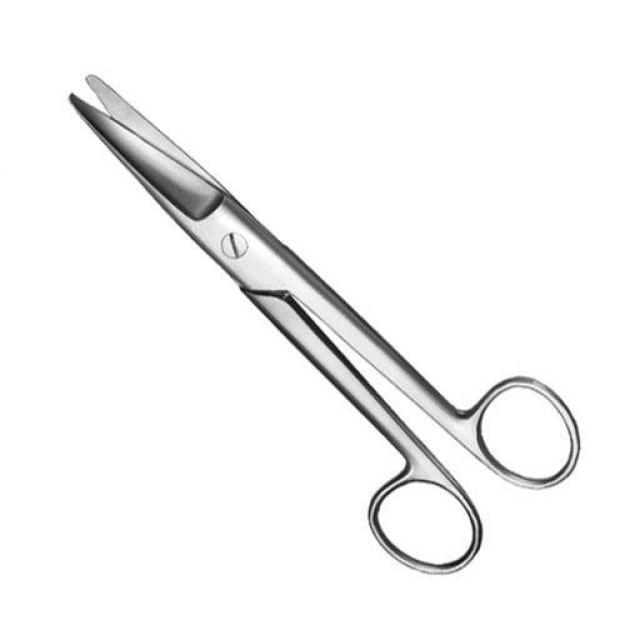scissors: (66, 71, 580, 576)
